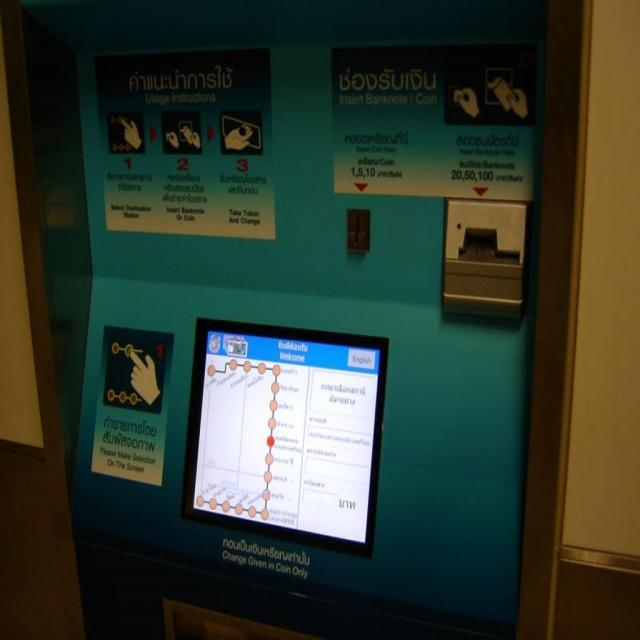others: (1, 1, 582, 633)
